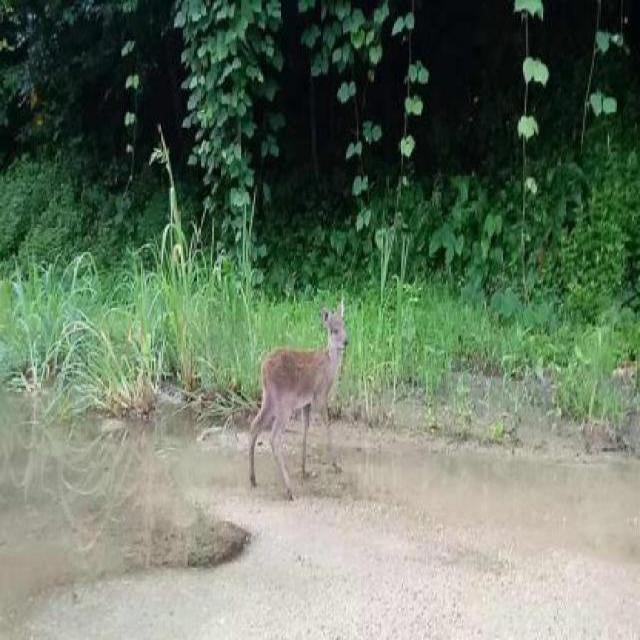deer: (248, 299, 350, 501)
